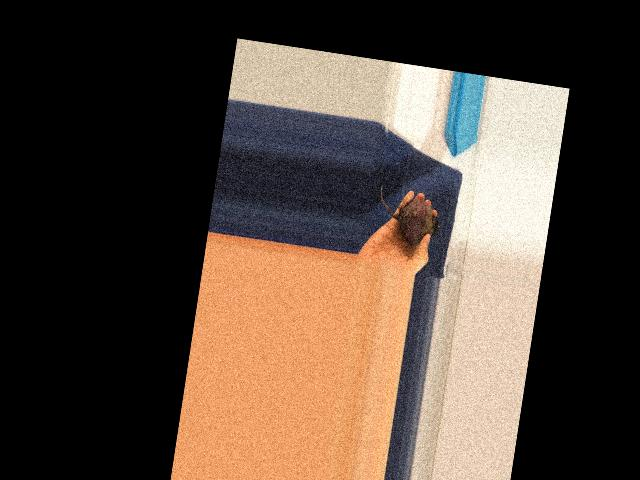beet: (373, 183, 444, 247)
